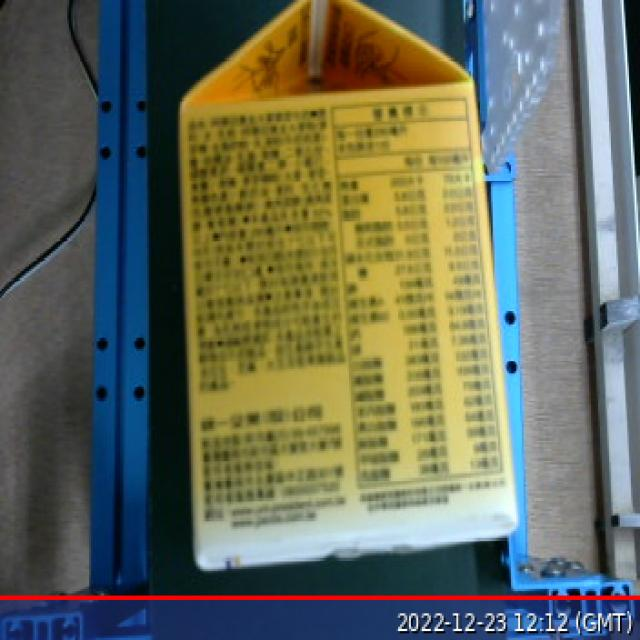non_white_jug: (148, 2, 535, 578)
